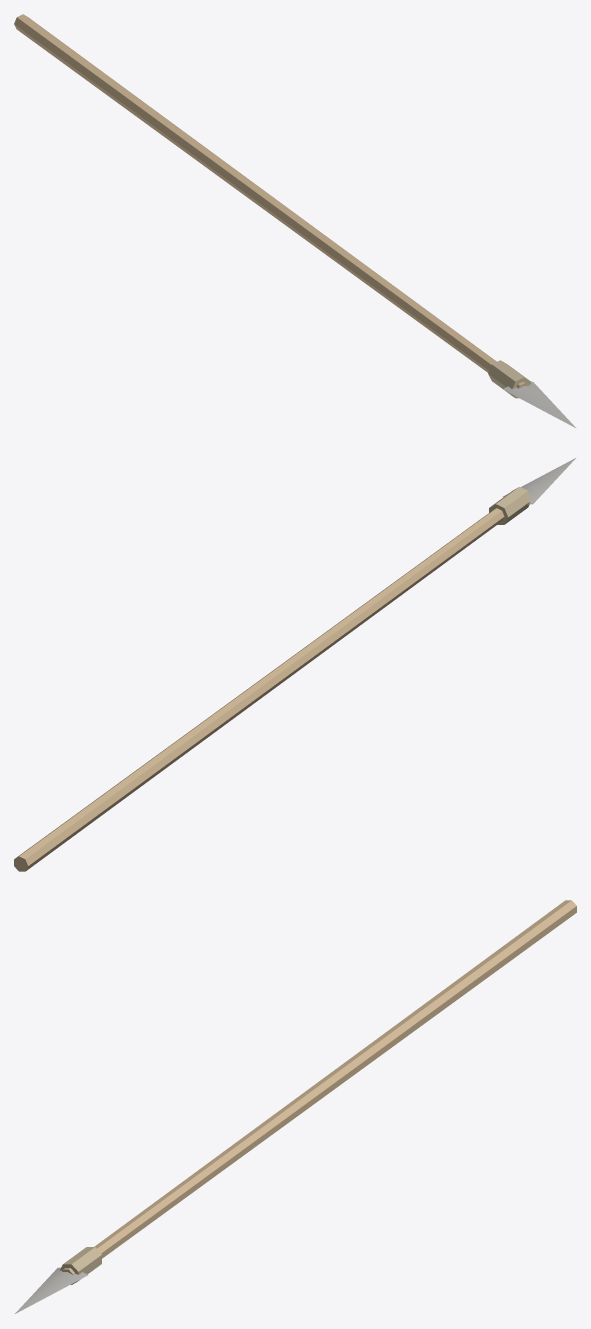
File: spear.glb
3 views of the same model, one above another, from view 1: azimuth 30°, elevation 25°; view 2: azimuth 150°, elevation 25°; view 3: azimuth 330°, elevation 25° (orthographic).
Parts seen in each view (by area): view 1: Spear; view 2: Spear; view 3: Spear.
Boxes of the visible parts, bbox=[...] form: Spear: bbox=[14, 14, 576, 428]; Spear: bbox=[14, 458, 575, 871]; Spear: bbox=[15, 900, 576, 1313].
Size of the model in its own units: 0.09 by 0.0585 by 2.82.
